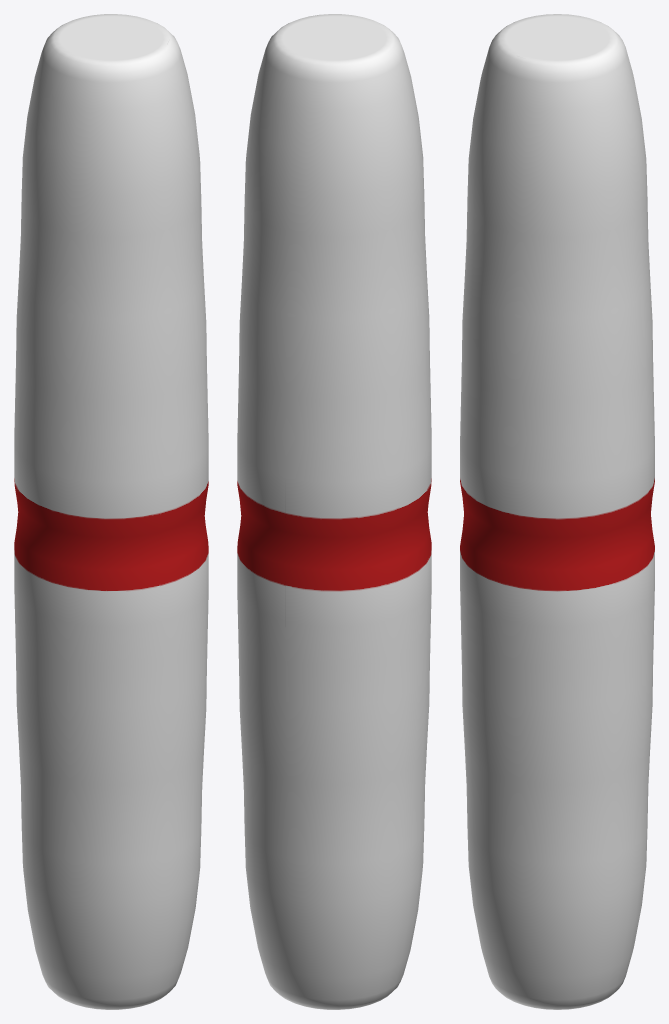
Rendered from candlepin.fbx.
The picture shows the model from 3 angles, left to right: view 1: azimuth 30°, elevation 25°; view 2: azimuth 150°, elevation 25°; view 3: azimuth 270°, elevation 25°; orthographic projection.
Visible parts, largest first — view 1: pin; view 2: pin; view 3: pin.
Boxes of the visible parts, bbox=[...] form: pin: bbox=[14, 14, 208, 1009]; pin: bbox=[237, 14, 431, 1009]; pin: bbox=[460, 14, 654, 1009].
Size of the model in its own units: 7.46 by 40 by 7.46.
